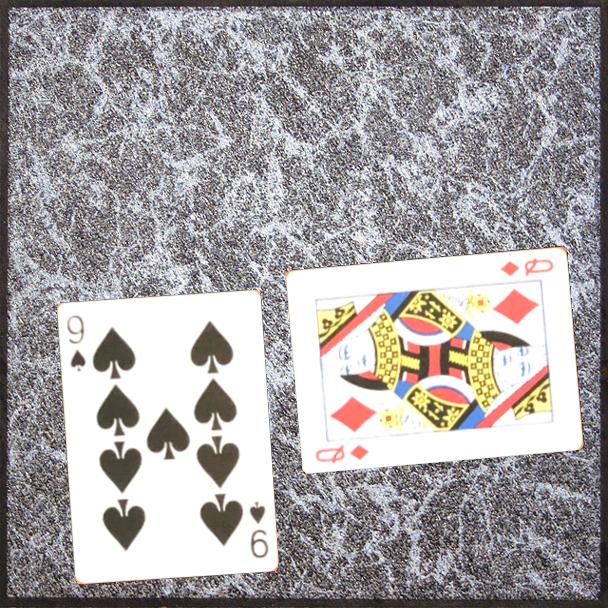d12: (497, 254, 557, 279), (312, 441, 372, 466)
s09: (245, 498, 271, 561), (63, 311, 88, 374)
